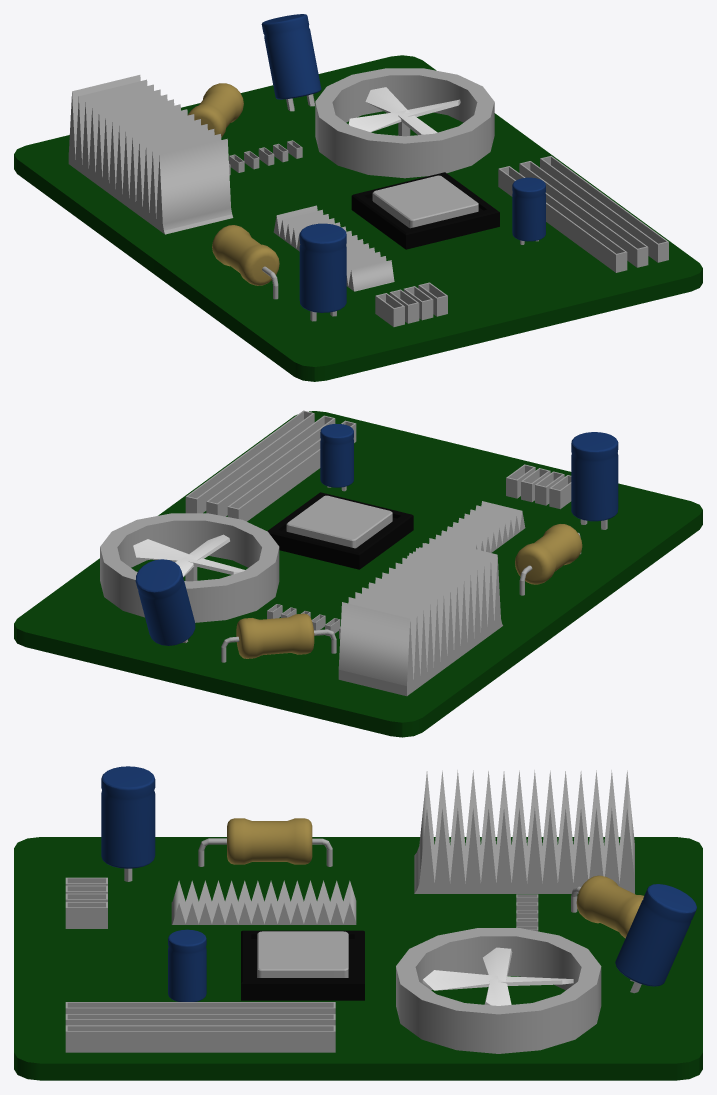
Rendered from MoBo.fbx.
3 renders of one model, top to bottom at view 1: azimuth 30°, elevation 25°; view 2: azimuth 150°, elevation 25°; view 3: azimuth 270°, elevation 25°, orthographic. The views are drawn at different scales.
Parts seen in each view (by area): view 1: MoBo1, Heatsink, Fan, CPU, Capacitor_Vertical, Capacitor_Vertical2, Heatsink1, Port6, Port4, Resistor, Port5, Capacitor_Vertical3 (+4 smaller); view 2: MoBo1, Heatsink, Fan, CPU, Capacitor_Vertical, Capacitor_Vertical2, Resistor1, Heatsink1, Port4, Port6, Resistor, Port5 (+7 smaller); view 3: MoBo1, Heatsink, Fan, CPU, Port4, Heatsink1, Capacitor_Vertical, Capacitor_Vertical2, Resistor, Port6, Port5, Resistor1 (+4 smaller).
Boxes of the visible parts, <box> form: MoBo1: <box>14,55,702,381</box>; Heatsink: <box>68,75,233,234</box>; Fan: <box>315,68,494,178</box>; CPU: <box>351,172,499,249</box>; Capacitor_Vertical: <box>299,223,346,312</box>; Capacitor_Vertical2: <box>261,14,321,99</box>; Heatsink1: <box>273,205,394,291</box>; Port6: <box>498,166,627,272</box>; Port4: <box>540,156,668,262</box>; Resistor: <box>212,225,279,299</box>; Port5: <box>519,161,648,267</box>; Capacitor_Vertical3: <box>512,177,545,241</box>; MoBo1: <box>14,411,702,737</box>; Heatsink: <box>338,538,502,696</box>; Fan: <box>100,513,279,622</box>; CPU: <box>267,492,413,569</box>; Capacitor_Vertical: <box>571,432,618,521</box>; Capacitor_Vertical2: <box>135,559,195,645</box>; Resistor1: <box>221,613,336,662</box>; Heatsink1: <box>407,501,525,558</box>; Port4: <box>185,410,314,513</box>; Port6: <box>227,420,356,521</box>; Resistor: <box>515,524,582,595</box>; Port5: <box>206,415,335,516</box>; MoBo1: <box>14,837,702,1080</box>; Heatsink: <box>414,770,634,893</box>; Fan: <box>396,928,601,1053</box>; CPU: <box>241,930,364,1000</box>; Port4: <box>65,1025,335,1052</box>; Heatsink1: <box>171,880,356,924</box>; Capacitor_Vertical: <box>101,766,155,868</box>; Capacitor_Vertical2: <box>615,884,696,986</box>; Resistor: <box>198,818,332,866</box>; Port6: <box>65,1002,335,1013</box>; Port5: <box>65,1014,335,1025</box>; Resistor1: <box>571,875,643,938</box>.
Size of the model in its own units: 1.83 by 0.433 by 2.35.
